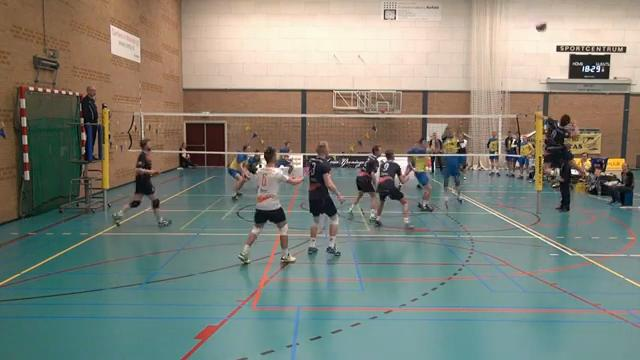attacco: (532, 109, 596, 190)
